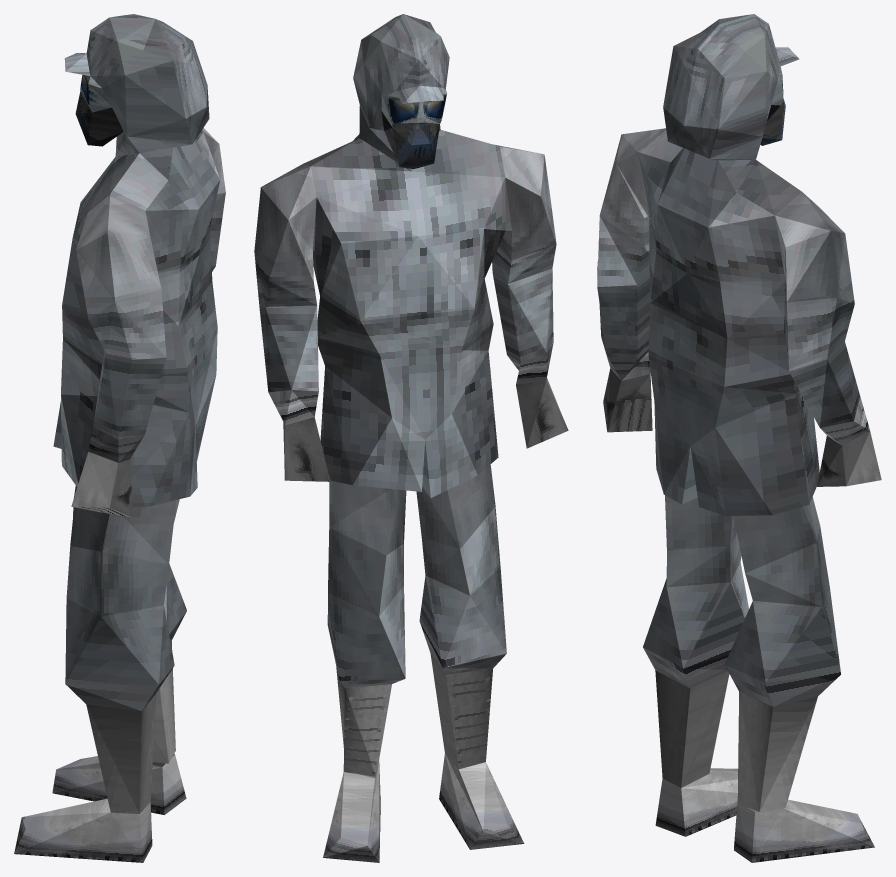
File: primary_035.glb
3 views of the same model, side by side, from view 1: azimuth 30°, elevation 25°; view 2: azimuth 150°, elevation 25°; view 3: azimuth 270°, elevation 25° (orthographic). The views are drawn at different scales.
Parts seen in each view (by area): view 1: Object; view 2: Object; view 3: Object.
Boxes of the visible parts, <box> form: Object: <box>14,14,225,862</box>; Object: <box>254,14,568,862</box>; Object: <box>597,14,881,862</box>.
Size of the model in its own units: 0.6339 by 2.08 by 0.6513.
Materials: 71 (71 with a texture image).
